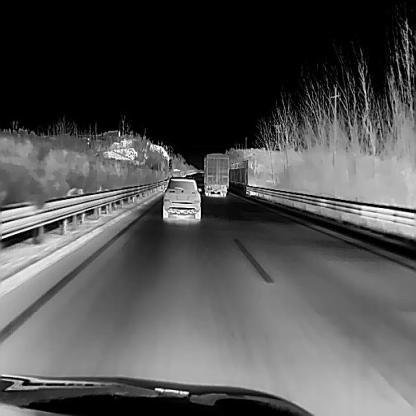car: (160, 175, 200, 218), (201, 151, 229, 196)
